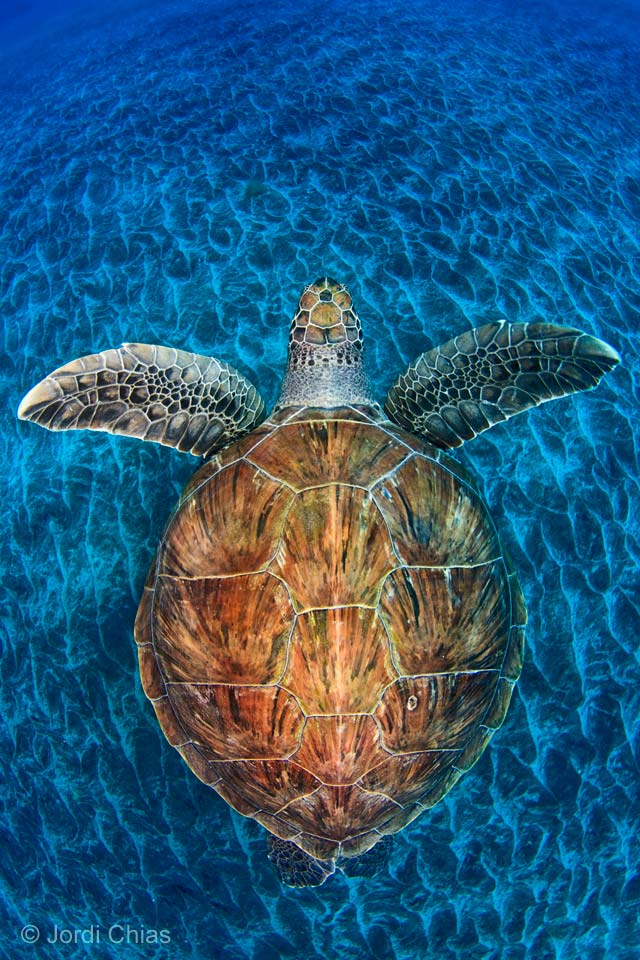trutle: (28, 274, 618, 884)
